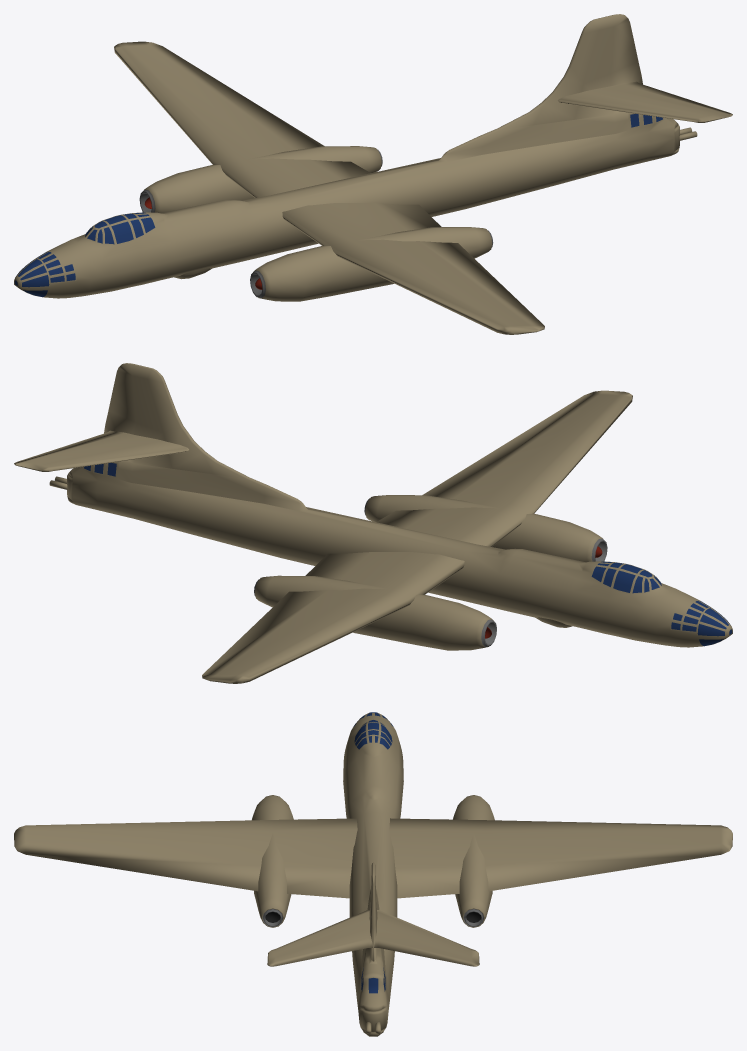
File: TU14_BISON.glb
3 views of the same model, one above another, from view 1: azimuth 30°, elevation 25°; view 2: azimuth 150°, elevation 25°; view 3: azimuth 270°, elevation 25° (orthographic). The views are drawn at different scales.
Parts seen in each view (by area): view 1: TU14_Bison; view 2: TU14_Bison; view 3: TU14_Bison.
Boxes of the visible parts, bbox=[...] form: TU14_Bison: bbox=[14, 14, 732, 334]; TU14_Bison: bbox=[14, 363, 732, 683]; TU14_Bison: bbox=[14, 712, 732, 1036].
Size of the model in its own units: 21.27 by 4.8 by 21.5.
